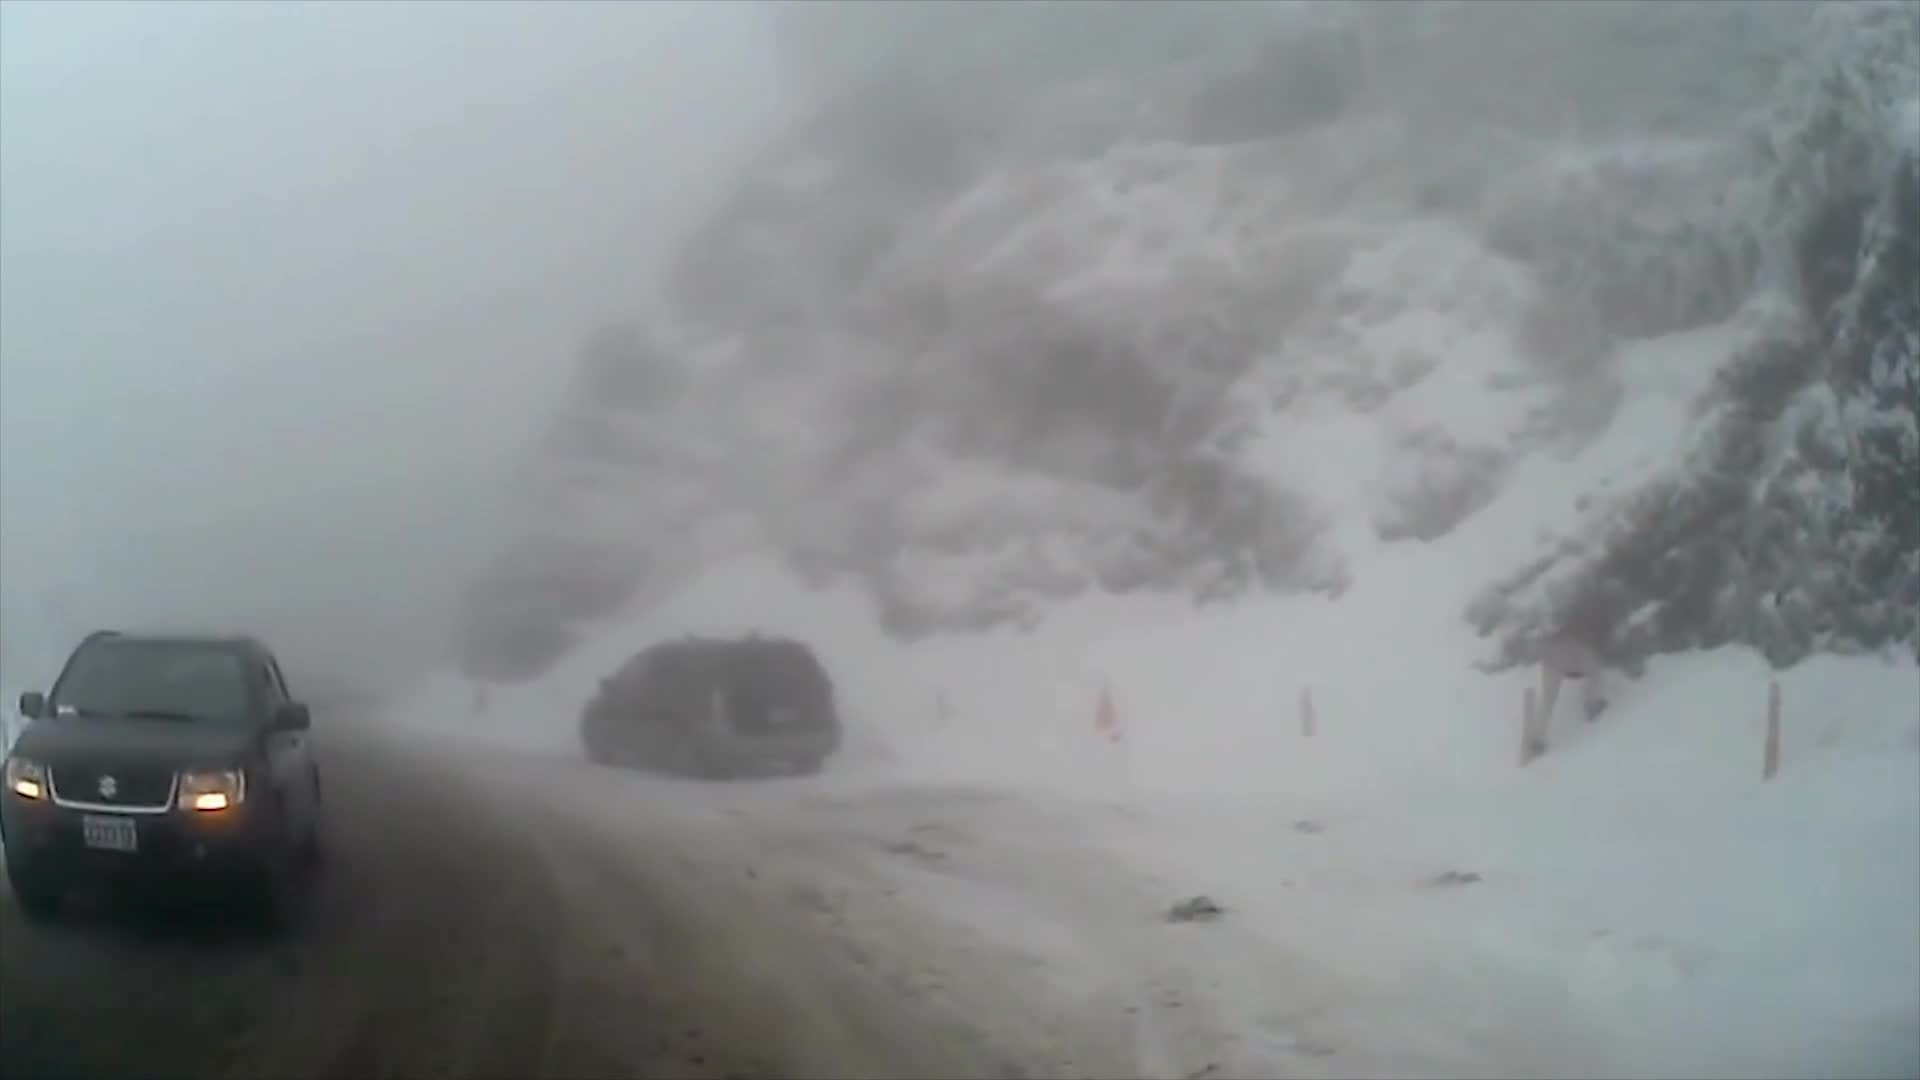vehicle: (1, 626, 324, 944), (580, 640, 840, 785)
